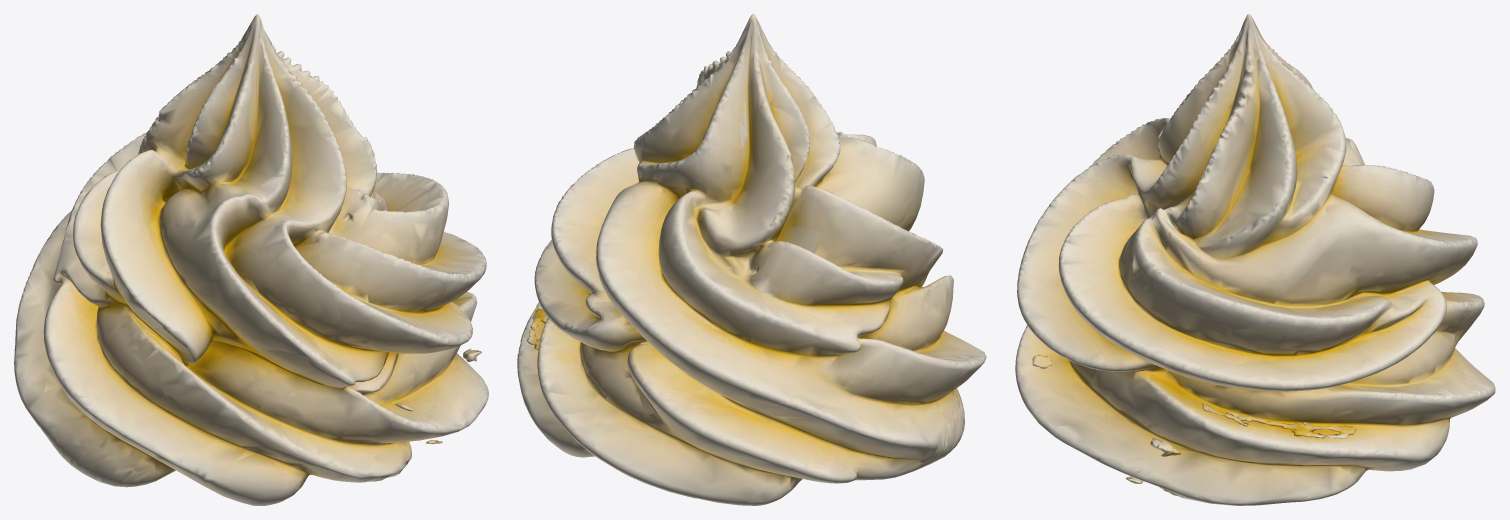
Rendered from bk-decor-cream-rosette.glb.
The picture shows the model from 3 angles, left to right: view 1: azimuth 30°, elevation 25°; view 2: azimuth 150°, elevation 25°; view 3: azimuth 270°, elevation 25°; orthographic projection.
Visible parts, largest first — view 1: node_0; view 2: node_0; view 3: node_0.
Part boxes in pixels (x1=…): node_0: x1=14, y1=14, x2=488, y2=505; node_0: x1=517, y1=14, x2=986, y2=505; node_0: x1=1015, y1=14, x2=1495, y2=505.
Bounding box in the file's own units: 0.9211 × 0.8794 × 0.9371.
Materials: 1 (1 with a texture image).
